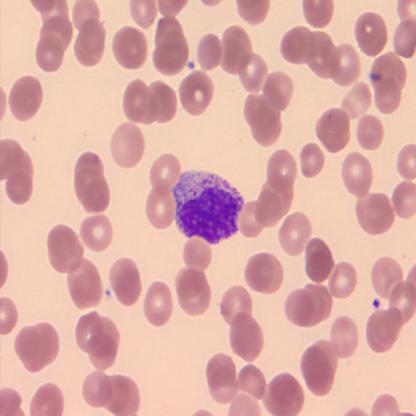Myelocyte: (171, 168, 243, 242)
